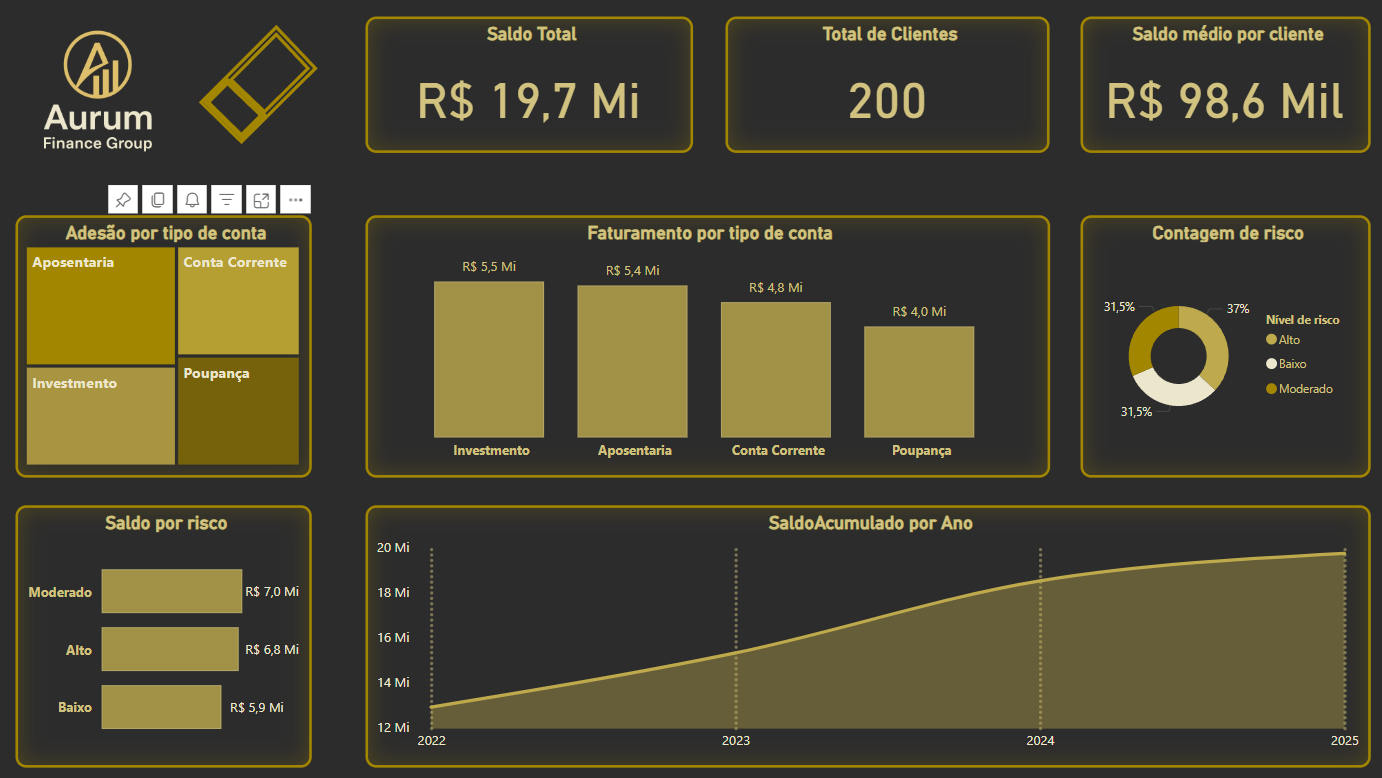

What the dashboard file says about the page in this screenshot:
{"tool":"powerbi","page":{"name":"Dashboard","canvas":[1280,720],"ordinal":0},"visuals":[{"type":"card","title":"Saldo Total","fields":{"Values":["Medidas.SaldoTotal"]},"box":[338.6,15.7,301.4,125.7],"z":0},{"type":"card","title":"Total de Clientes","fields":{"Values":["Medidas.TotalClientes"]},"box":[670,15.7,298.6,125.7],"z":1000},{"type":"card","title":"Saldo médio por cliente","fields":{"Values":["Medidas.SaldoMedioPorCliente"]},"box":[997.1,15.7,267.1,125.7],"z":2000},{"type":"clusteredColumnChart","title":"Faturamento por tipo de conta","fields":{"Category":["Dashboard.Account Type"],"Y":["Sum(Dashboard.Balance (USD))"]},"box":[338.6,198.6,630,241.4],"z":3000},{"type":"donutChart","title":"Contagem de risco","fields":{"Category":["Dashboard.Risk Level"],"Y":["CountNonNull(Dashboard.Risk Level)"]},"box":[997.1,198.6,267.1,241.4],"z":4000},{"type":"lineChart","fields":{"Y":["Medidas.SaldoAcumulado"],"Category":["Calendario.Ano"]},"box":[338.6,465.7,925.7,241.4],"z":5000},{"type":"treemap","title":"Adesão por tipo de conta","fields":{"Values":["CountNonNull(Dashboard.Account Type)"],"Group":["Dashboard.Account Type"]},"box":[16.2,198.8,272.5,241.2],"z":6000},{"type":"actionButton","box":[178.8,17.5,123.8,125],"z":7000},{"type":"clusteredBarChart","title":"Saldo por risco","fields":{"Category":["Dashboard.Risk Level"],"Y":["Sum(Dashboard.Saldo(R$))"]},"box":[15.7,465.7,272.9,241.4],"z":8000},{"type":"image","box":[6.2,0,172.5,172.5],"z":9000}]}

Visuals, with their boxes in screenshot pixels (x1, y1, x2, y2):
"Saldo Total" card: region(364, 24, 685, 158)
"Total de Clientes" card: region(717, 24, 1035, 158)
"Saldo médio por cliente" card: region(1065, 24, 1350, 158)
"Faturamento por tipo de conta" clusteredColumnChart: region(364, 219, 1035, 476)
"Contagem de risco" donutChart: region(1065, 219, 1350, 476)
lineChart - Medidas.SaldoAcumulado x Calendario.Ano: region(364, 503, 1350, 760)
"Adesão por tipo de conta" treemap: region(21, 219, 311, 476)
actionButton: region(194, 26, 326, 159)
"Saldo por risco" clusteredBarChart: region(20, 503, 311, 760)
image: region(10, 7, 194, 191)
